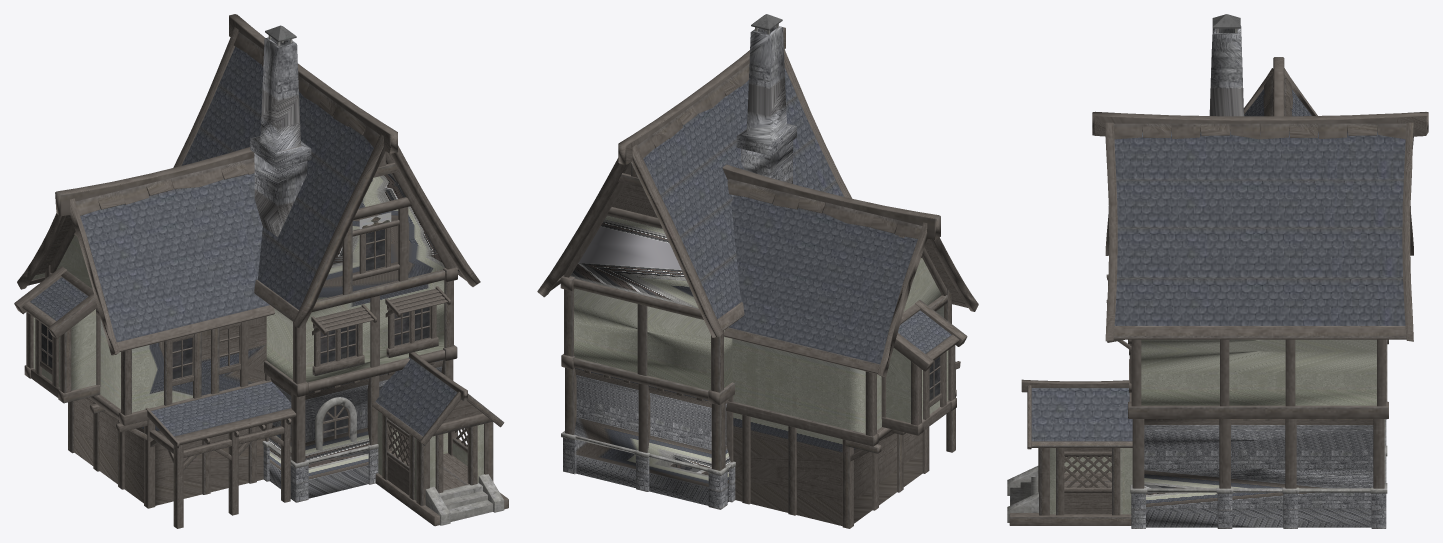
File: medieval-rx-y90.far.glb
The picture shows the model from 3 angles, left to right: view 1: azimuth 30°, elevation 25°; view 2: azimuth 150°, elevation 25°; view 3: azimuth 270°, elevation 25°; orthographic projection. The views are drawn at different scales.
Parts seen in each view (by area): view 1: Cube.154, Cube.112, Cube, Cube.118, Cube.271, Cube.182, Cube.110, Cube.222, Cube.225, Cube.224, Cube.215, Cube.184 (+50 smaller); view 2: Cube, Cube.015, Cube.118, Cube.112, Cube.271, Cube.110, Cube.014, Cube.224, Cube.105, Cube.184, pasted__Cube.219, Cube.089 (+25 smaller); view 3: Cube.013, Cube, Cube.018, Cube.219, Cube.113, Cube.111, Cube.076, Cube.105, Cube.271, Cube.215, Cube.195, Cube.002 (+20 smaller).
Boxes of the visible parts, x1,y1,x2,y2 form: Cube.154: (80, 173, 269, 342); Cube.112: (181, 46, 373, 309); Cube: (266, 173, 445, 498); Cube.118: (56, 235, 266, 505); Cube.271: (250, 37, 311, 236); Cube.182: (151, 381, 291, 436); Cube.110: (173, 27, 385, 329); Cube.222: (375, 357, 457, 436); Cube.225: (75, 158, 254, 215); Cube.224: (55, 147, 254, 216); Cube.215: (377, 400, 483, 500); Cube.184: (33, 309, 96, 390); Cube: (571, 184, 732, 505); Cube.015: (729, 195, 917, 364); Cube.118: (732, 258, 943, 525); Cube.112: (643, 67, 843, 319); Cube.271: (736, 26, 796, 183); Cube.110: (631, 48, 851, 337); Cube.014: (727, 178, 922, 238); Cube.224: (722, 164, 940, 239); Cube.105: (618, 27, 785, 164); Cube.184: (886, 348, 948, 423); pasted__Cube.219: (637, 63, 749, 158); Cube.089: (726, 401, 878, 446); Cube.013: (1114, 131, 1405, 325); Cube: (1141, 339, 1376, 527); Cube.018: (1031, 388, 1132, 441); Cube.219: (1113, 123, 1406, 139); Cube.113: (1113, 326, 1406, 339); Cube.111: (1105, 122, 1413, 341); Cube.076: (1128, 401, 1388, 418); Cube.105: (1092, 111, 1428, 136); Cube.271: (1209, 25, 1244, 116); Cube.215: (1050, 448, 1132, 514); Cube.195: (1009, 513, 1131, 525); Cube.002: (1147, 419, 1385, 492).
Bounding box in the file's own units: 10.77 × 12.6 × 10.7.
1 material, 1 textured.
